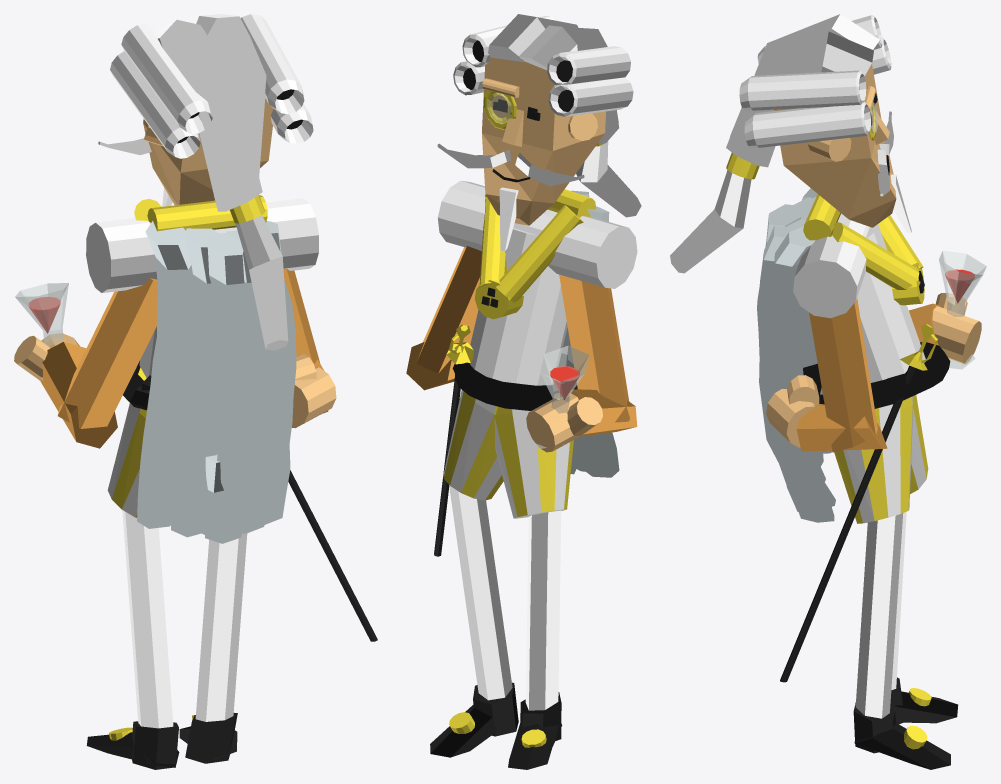
Rendered from scene_FcN7aKr8F0.glb.
3 renders of one model, left to right at view 1: azimuth 30°, elevation 25°; view 2: azimuth 150°, elevation 25°; view 3: azimuth 270°, elevation 25°, orthographic. The views are drawn at different scales.
Visible parts, largest first — view 1: Node; view 2: Node; view 3: Node.
Part boxes in pixels (<box>): Node: <box>14,14,377,769</box>; Node: <box>406,14,641,769</box>; Node: <box>670,14,986,769</box>.
Size of the model in its own units: 0.7483 by 2.03 by 0.8174.
